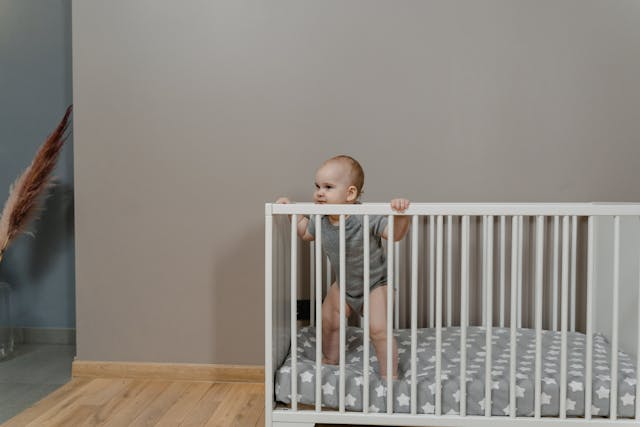baby: (345, 215, 387, 377)
crib: (265, 203, 639, 426)
